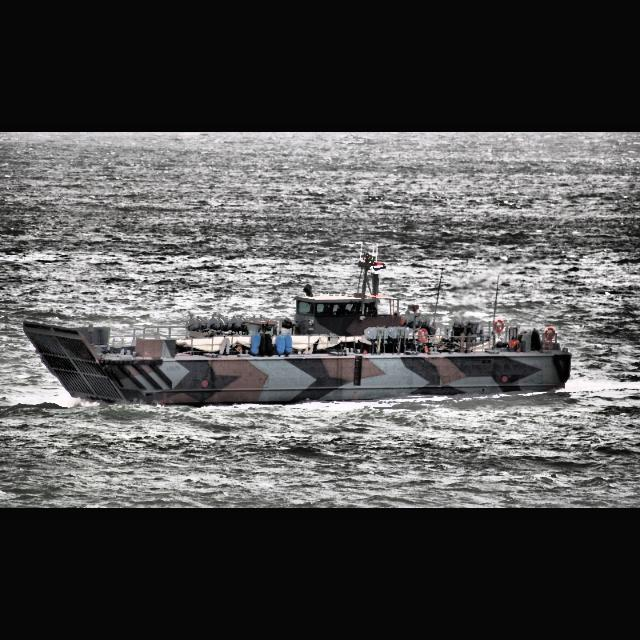combat_vessel: (22, 248, 574, 410)
